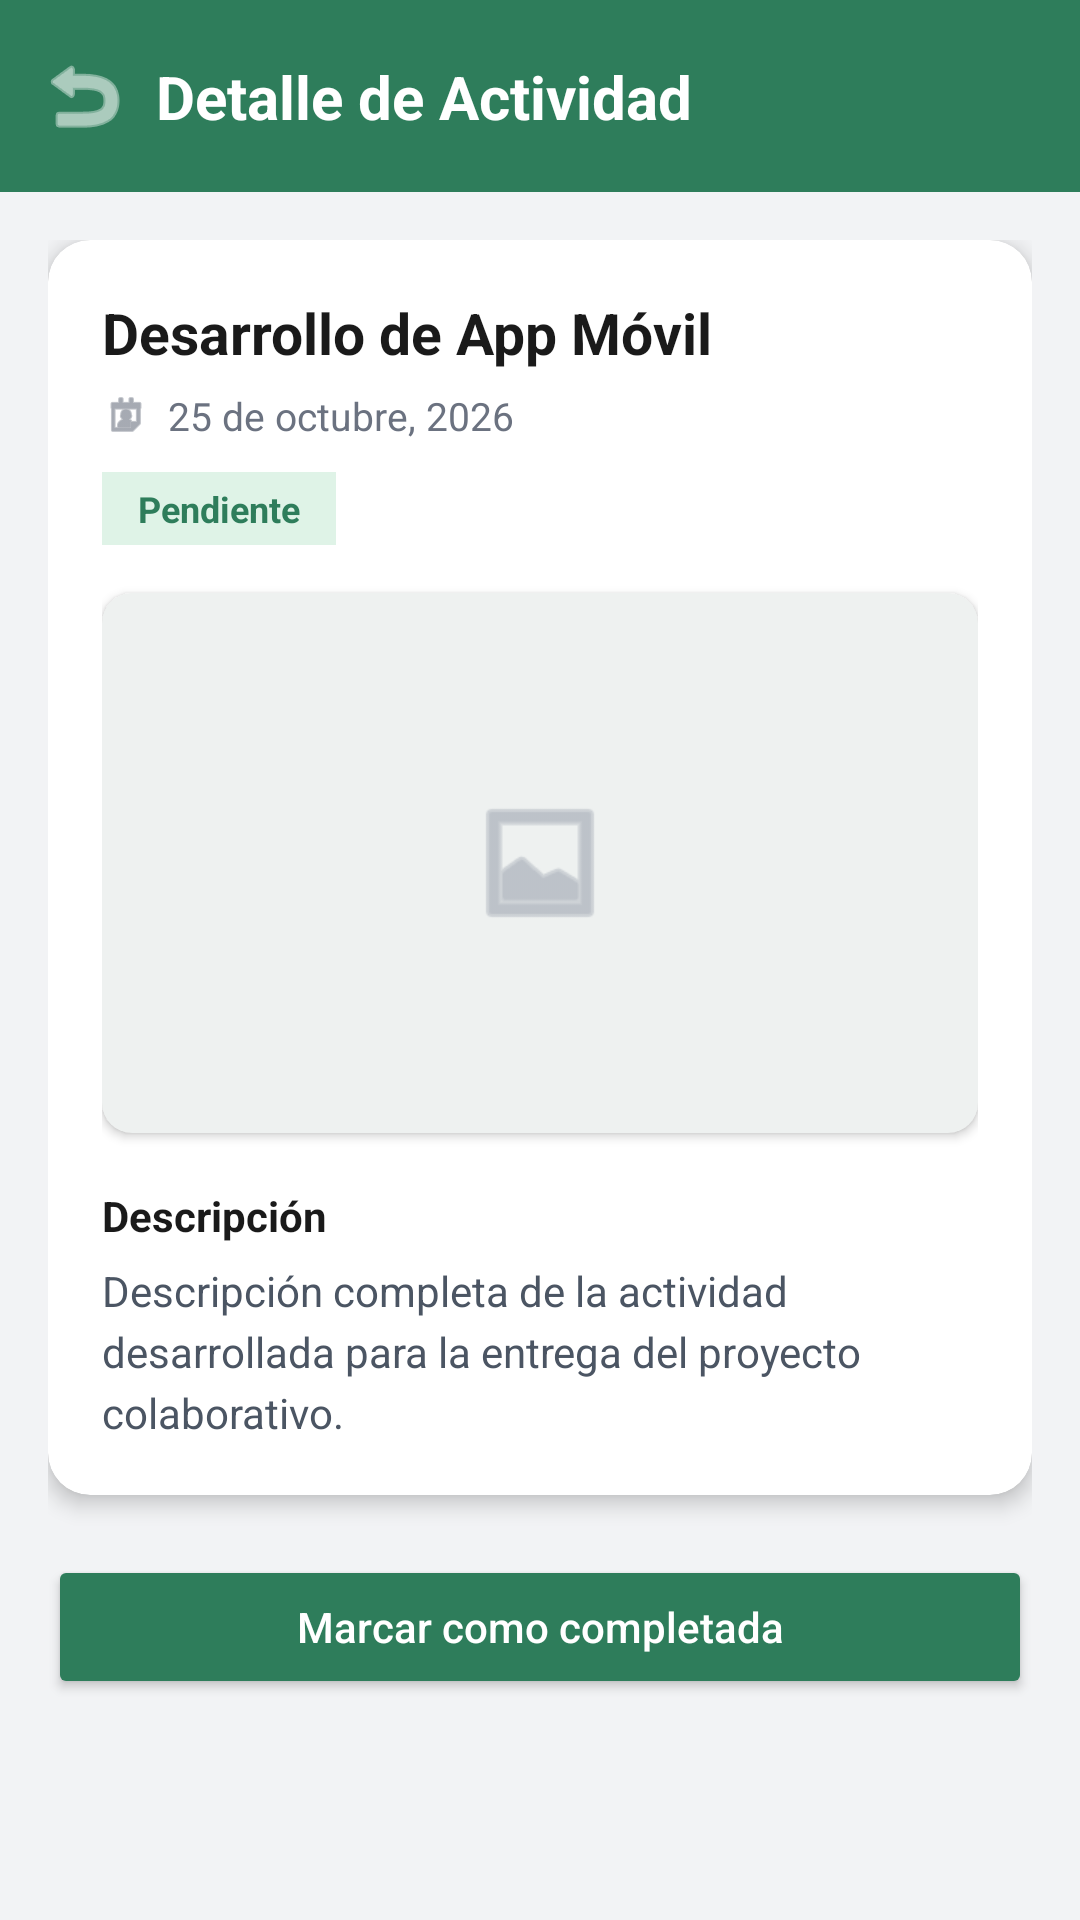

Icons on this 1080w x 1920h Android screen, each with the point to tap as point (x, y):
calendar: point (126, 414)
gallery: point (540, 863)
Volver: point (85, 96)
